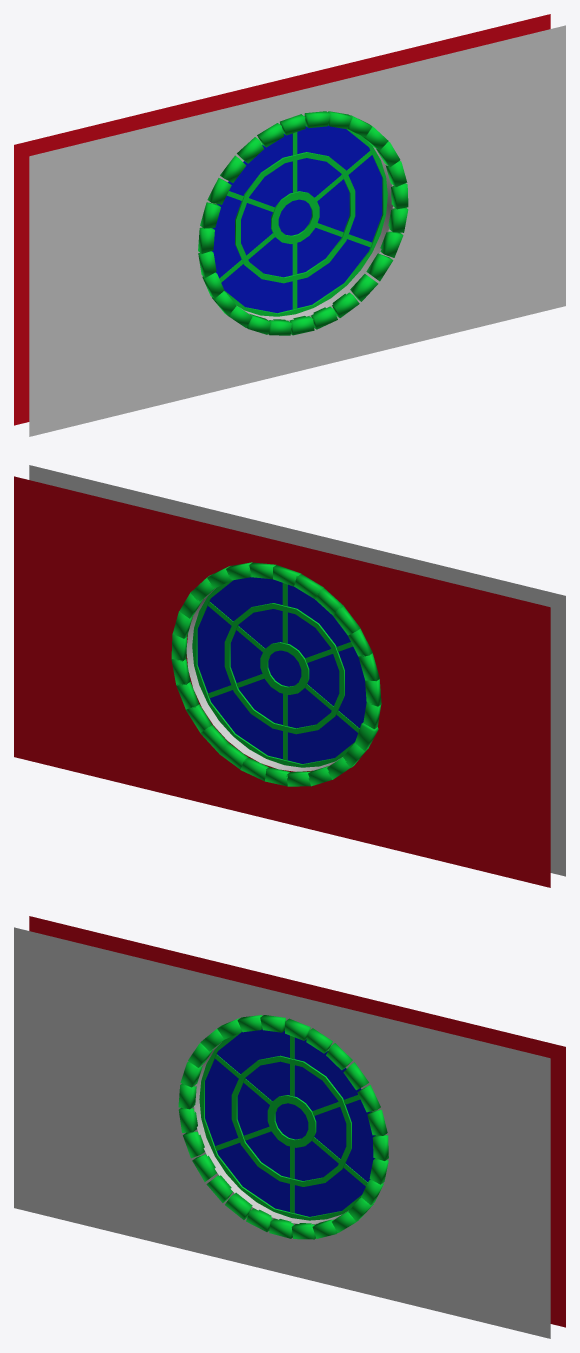
File: Round_window.fbx
3 views of the same model, one above another, from view 1: azimuth 30°, elevation 25°; view 2: azimuth 150°, elevation 25°; view 3: azimuth 330°, elevation 25° (orthographic).
Parts seen in each view (by area): view 1: Round_window; view 2: Round_window; view 3: Round_window.
Boxes of the visible parts, x1,y1,x2,y2 form: Round_window: (14,14,565,436); Round_window: (14,465,565,887); Round_window: (14,916,565,1338).
Size of the model in its own units: 1000 by 500 by 79.03.
